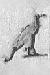G35: (5, 1, 45, 75)
